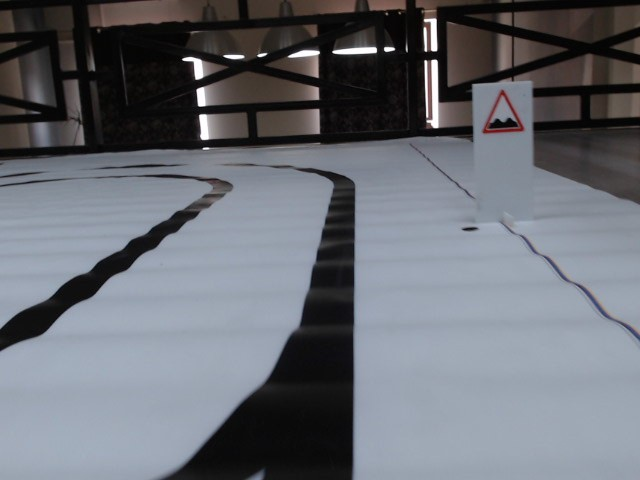Nerov: (482, 89, 528, 137)
